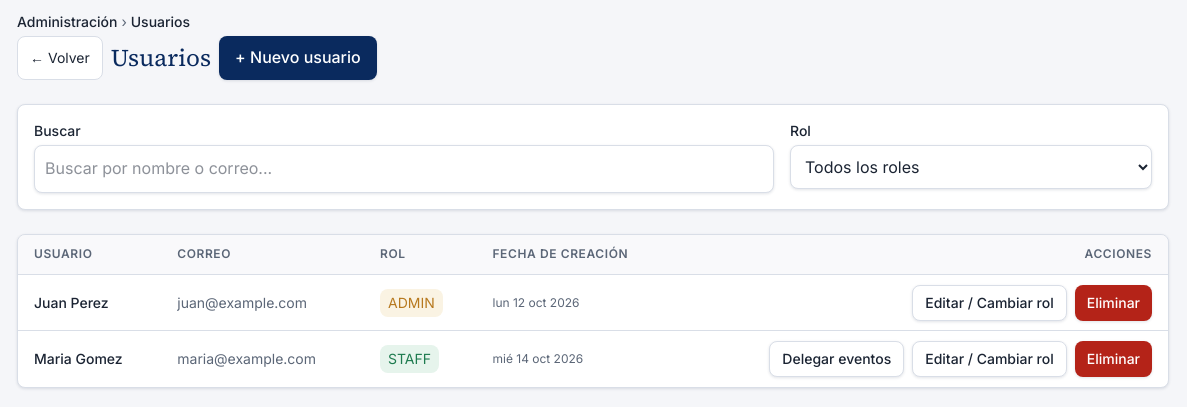
UsuariosPage & Button institutional redesign and regression guards › filters users by search query and role
Filter by search query
Type "maria" into the field labelled "Buscar".
click(404, 169); type("maria")  # box [34, 145, 774, 193]
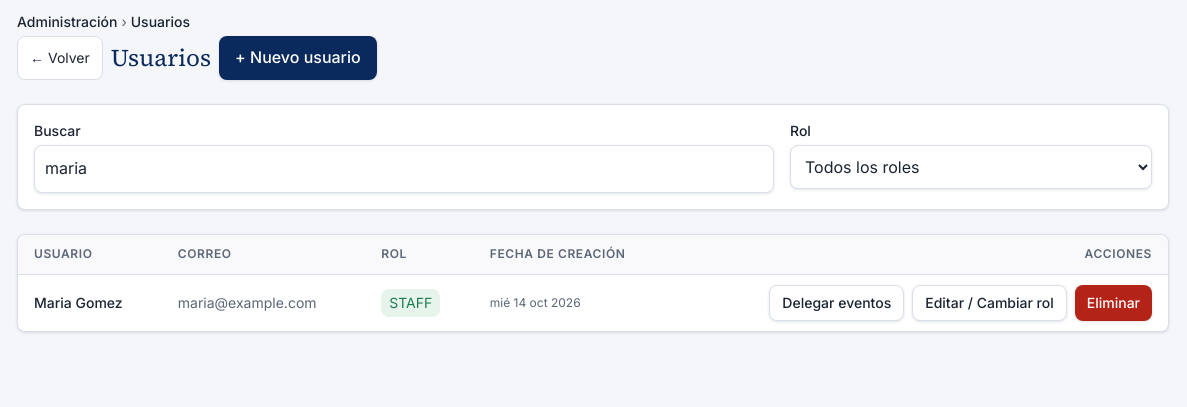
Now the text "Juan Perez" is gone
Filter by role
Clear the field labelled "Buscar" at point(404, 169), box [34, 145, 774, 193]
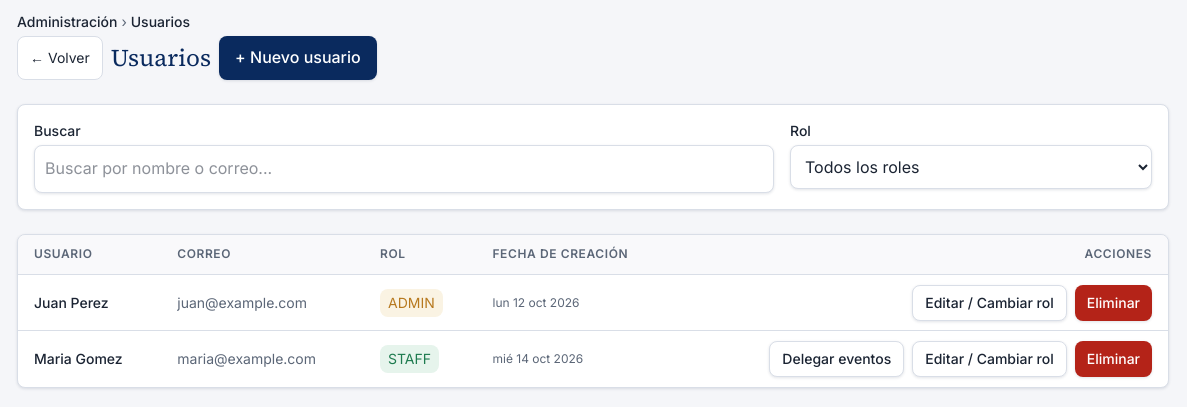
Select "ADMIN" in the dropdown labelled "Rol" at point(971, 167), box [790, 145, 1152, 189]
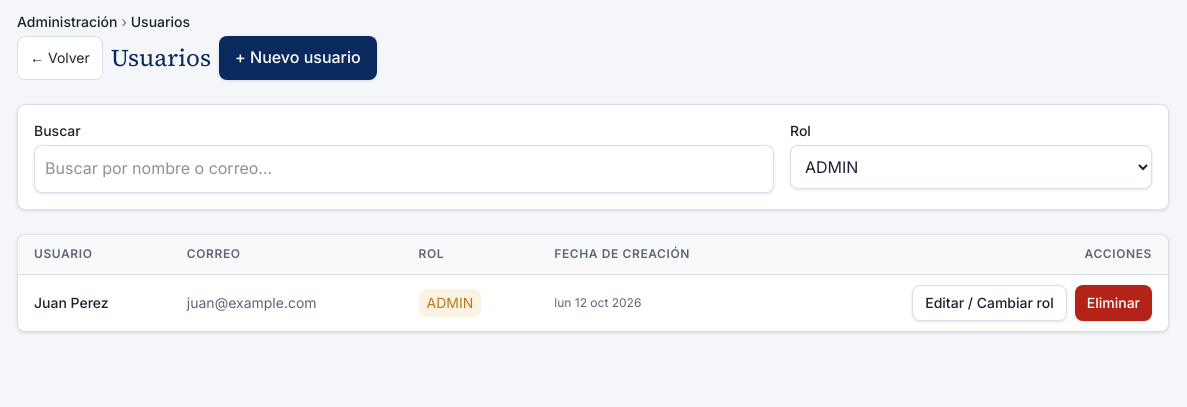
Now the text "Maria Gomez" is gone
